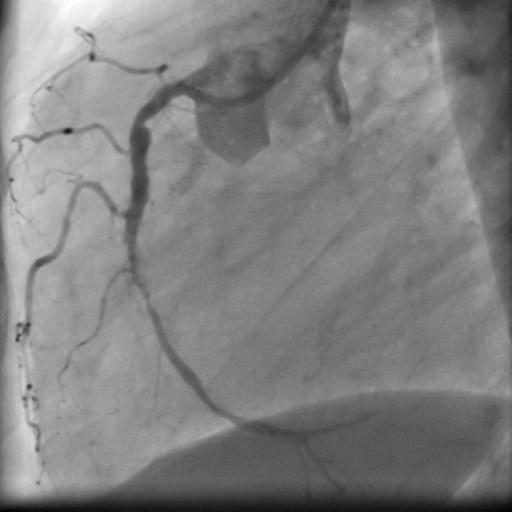Stenosis: (129, 107, 151, 131)
